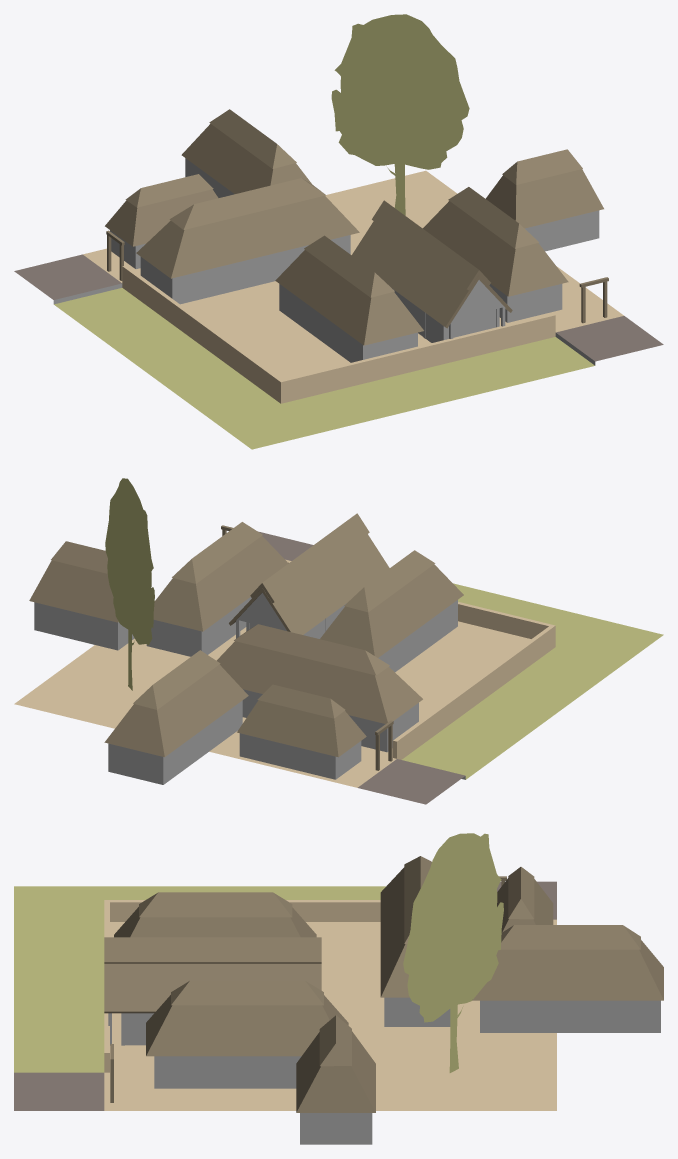
The picture shows the model from 3 angles, top to bottom: view 1: azimuth 30°, elevation 25°; view 2: azimuth 150°, elevation 25°; view 3: azimuth 270°, elevation 25°; orthographic projection. The views are drawn at different scales.
Parts seen in each view (by area): view 1: r1rw; view 2: r1rw; view 3: r1rw.
Boxes of the visible parts, x1,y1,x2,y2 form: r1rw: (14, 14, 663, 449); r1rw: (14, 478, 663, 804); r1rw: (14, 833, 663, 1144).
Size of the model in its own units: 34.67 by 14.71 by 35.92.
